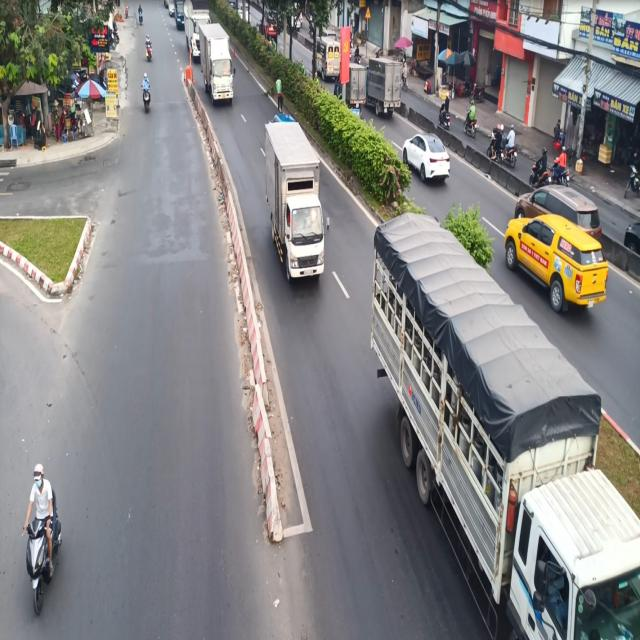motorbike: (22, 459, 69, 622), (138, 68, 154, 116)
truck: (364, 202, 640, 640), (263, 124, 328, 298), (200, 13, 238, 114)
